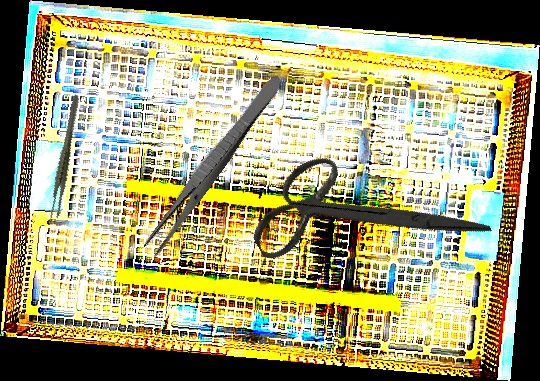Dressing Forceps: (138, 69, 287, 260)
Iris Scissors: (233, 100, 493, 332)
Tissue Forceps: (28, 93, 103, 222)
